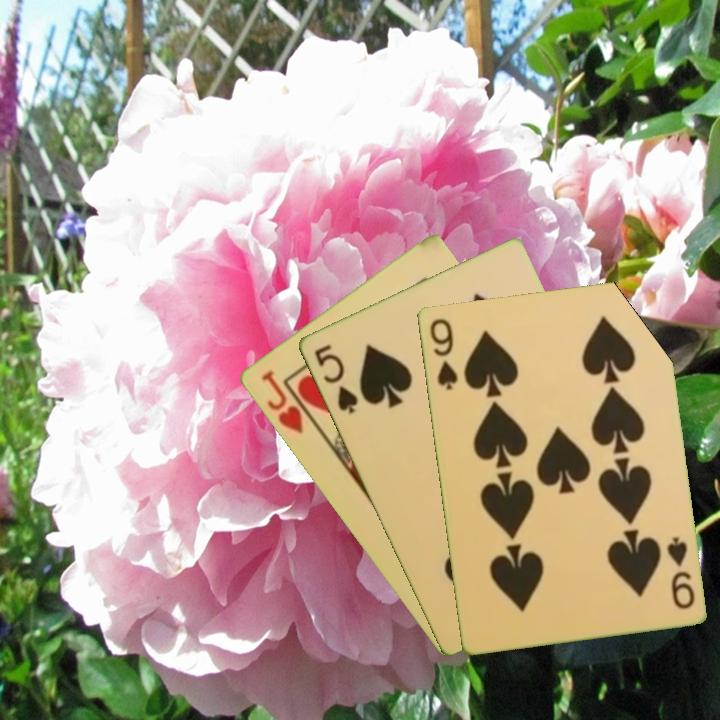5s: (310, 340, 360, 417)
9s: (425, 314, 460, 392), (663, 533, 697, 612)
Jh: (257, 366, 320, 437)
